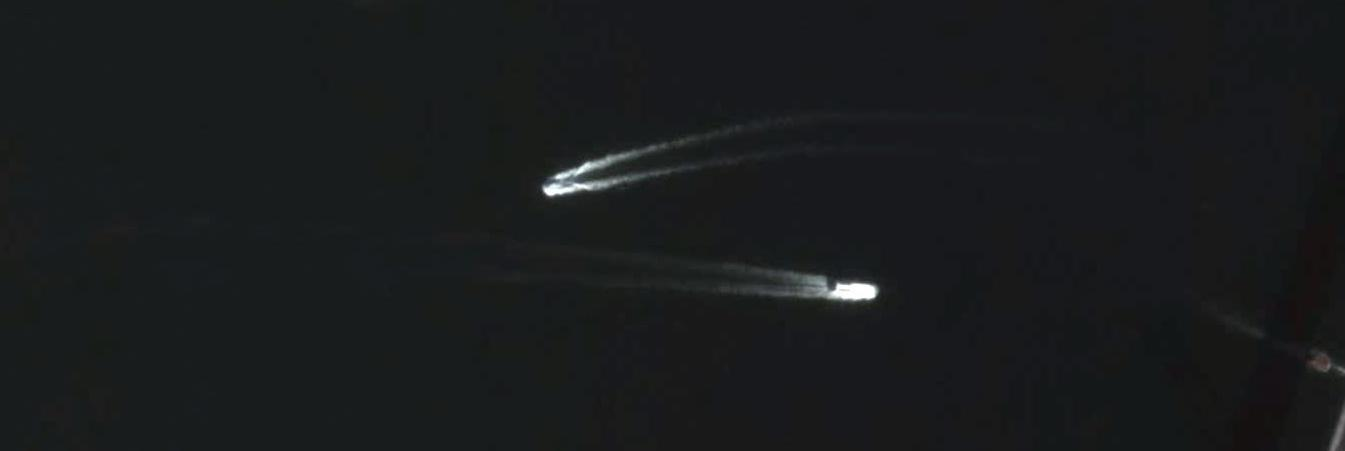person: (835, 283, 878, 300), (1313, 354, 1343, 374), (542, 178, 566, 188)
